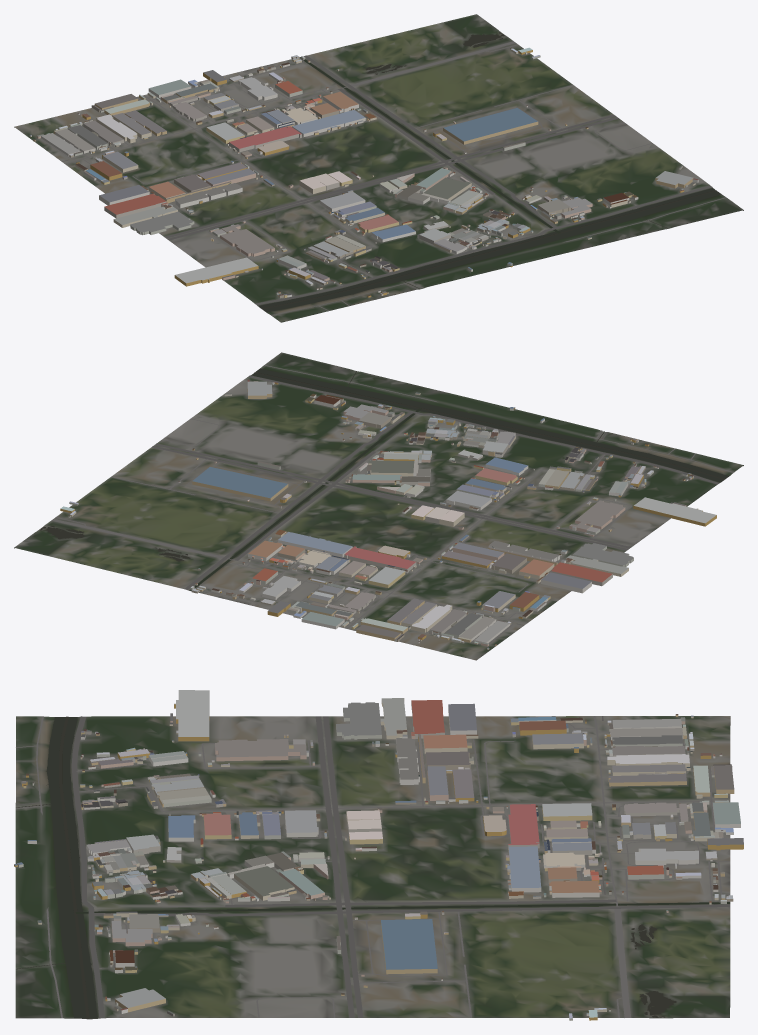
The picture shows the model from 3 angles, top to bottom: view 1: azimuth 30°, elevation 25°; view 2: azimuth 150°, elevation 25°; view 3: azimuth 270°, elevation 25°; orthographic projection. The views are drawn at different scales.
Visible parts, largest first — view 1: ground, buildings, roads, water; view 2: ground, buildings, roads, water; view 3: ground, buildings, roads, water.
Boxes of the visible parts, x1=… form: ground: x1=14, y1=14, x2=743, y2=322; buildings: x1=29, y1=47, x2=698, y2=298; roads: x1=41, y1=41, x2=726, y2=315; water: x1=258, y1=32, x2=721, y2=312; ground: x1=14, y1=352, x2=743, y2=660; buildings: x1=60, y1=379, x2=716, y2=649; roads: x1=51, y1=365, x2=733, y2=644; water: x1=39, y1=368, x2=728, y2=590; ground: x1=15, y1=716, x2=730, y2=1019; buildings: x1=14, y1=690, x2=743, y2=1020; roads: x1=16, y1=716, x2=730, y2=1018; water: x1=16, y1=716, x2=730, y2=1018.
Bounding box in the file's own units: 1514 × 19.74 × 1431.
